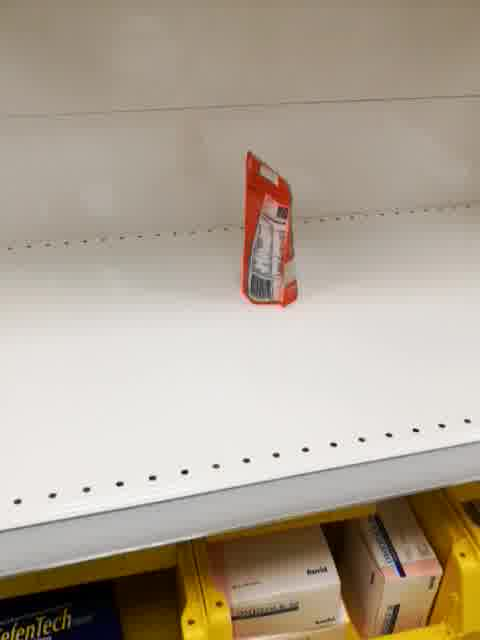whitechia: (238, 147, 301, 310)
